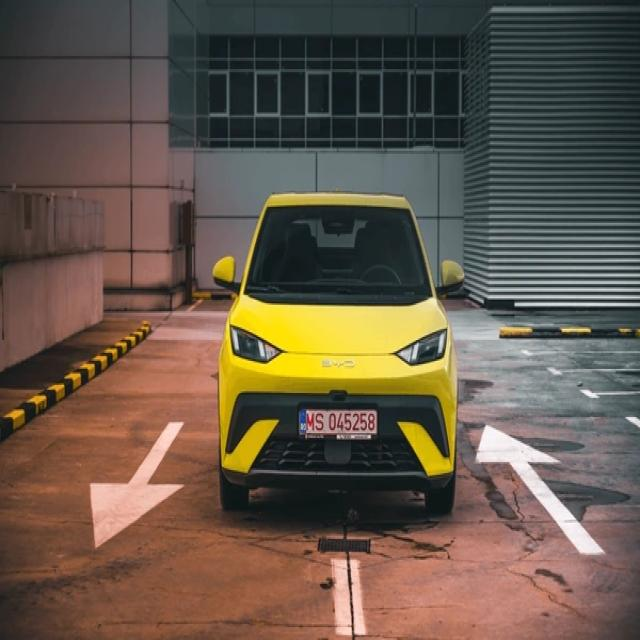byd: (320, 356, 355, 371)
